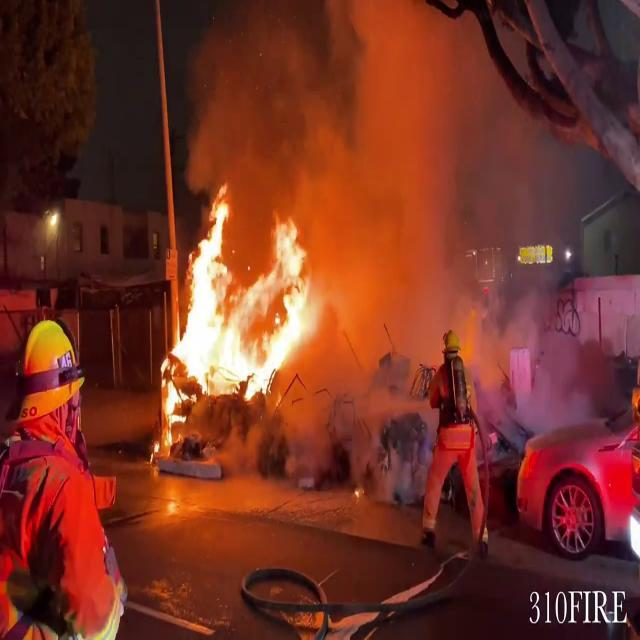Fire: (153, 177, 327, 448)
Smoke: (286, 1, 574, 412)
